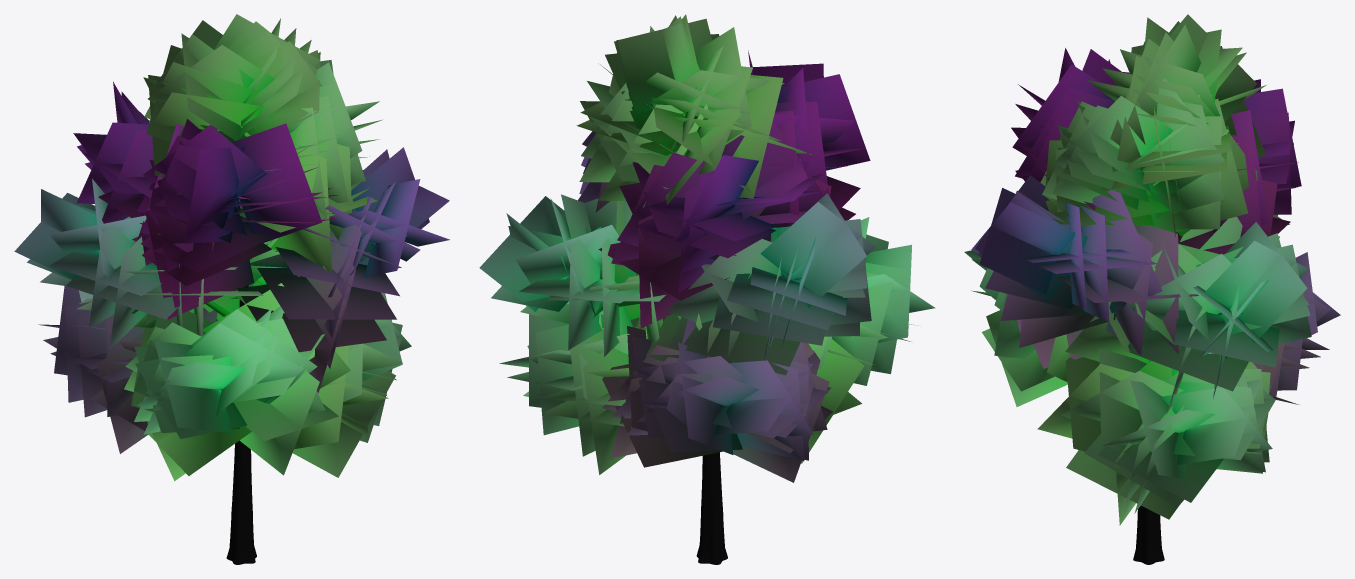
File: Tree15.fbx
3 views of the same model, side by side, from view 1: azimuth 30°, elevation 25°; view 2: azimuth 150°, elevation 25°; view 3: azimuth 270°, elevation 25° (orthographic). The views are drawn at different scales.
Visible parts, largest first — view 1: Tree_1, Tree_0; view 2: Tree_1, Tree_0; view 3: Tree_1, Tree_0.
Part boxes in pixels (bbox=[...]): Tree_1: bbox=[14, 14, 449, 481]; Tree_0: bbox=[205, 131, 256, 564]; Tree_1: bbox=[479, 14, 935, 482]; Tree_0: bbox=[696, 197, 801, 564]; Tree_1: bbox=[964, 14, 1340, 525]; Tree_0: bbox=[1055, 251, 1243, 564].
Size of the model in its own units: 346 by 495 by 313.
